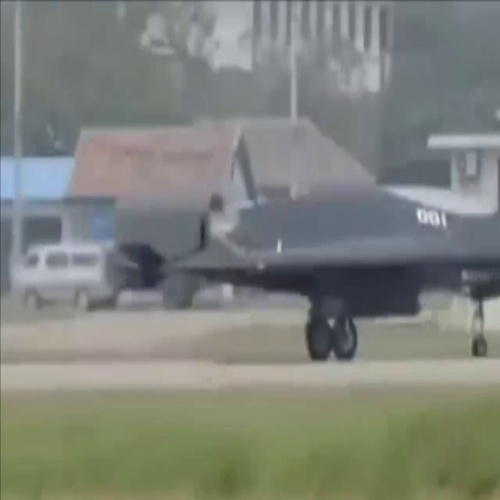uav1037: (170, 173, 498, 361)
